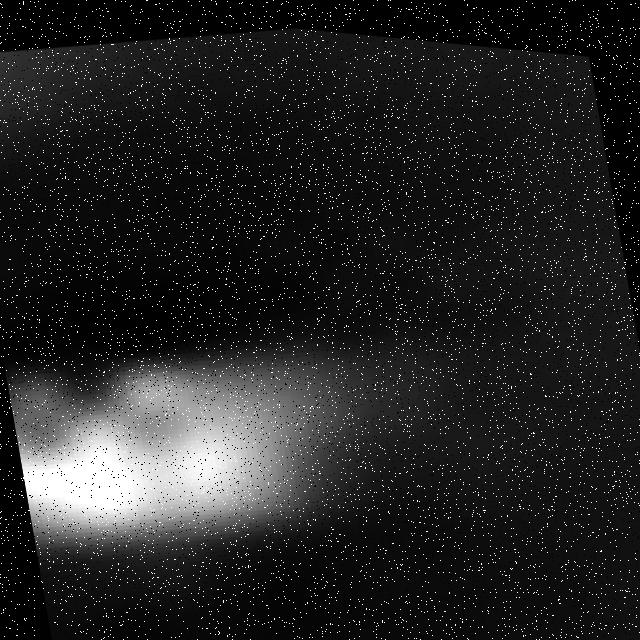person: (1, 268, 445, 604)
